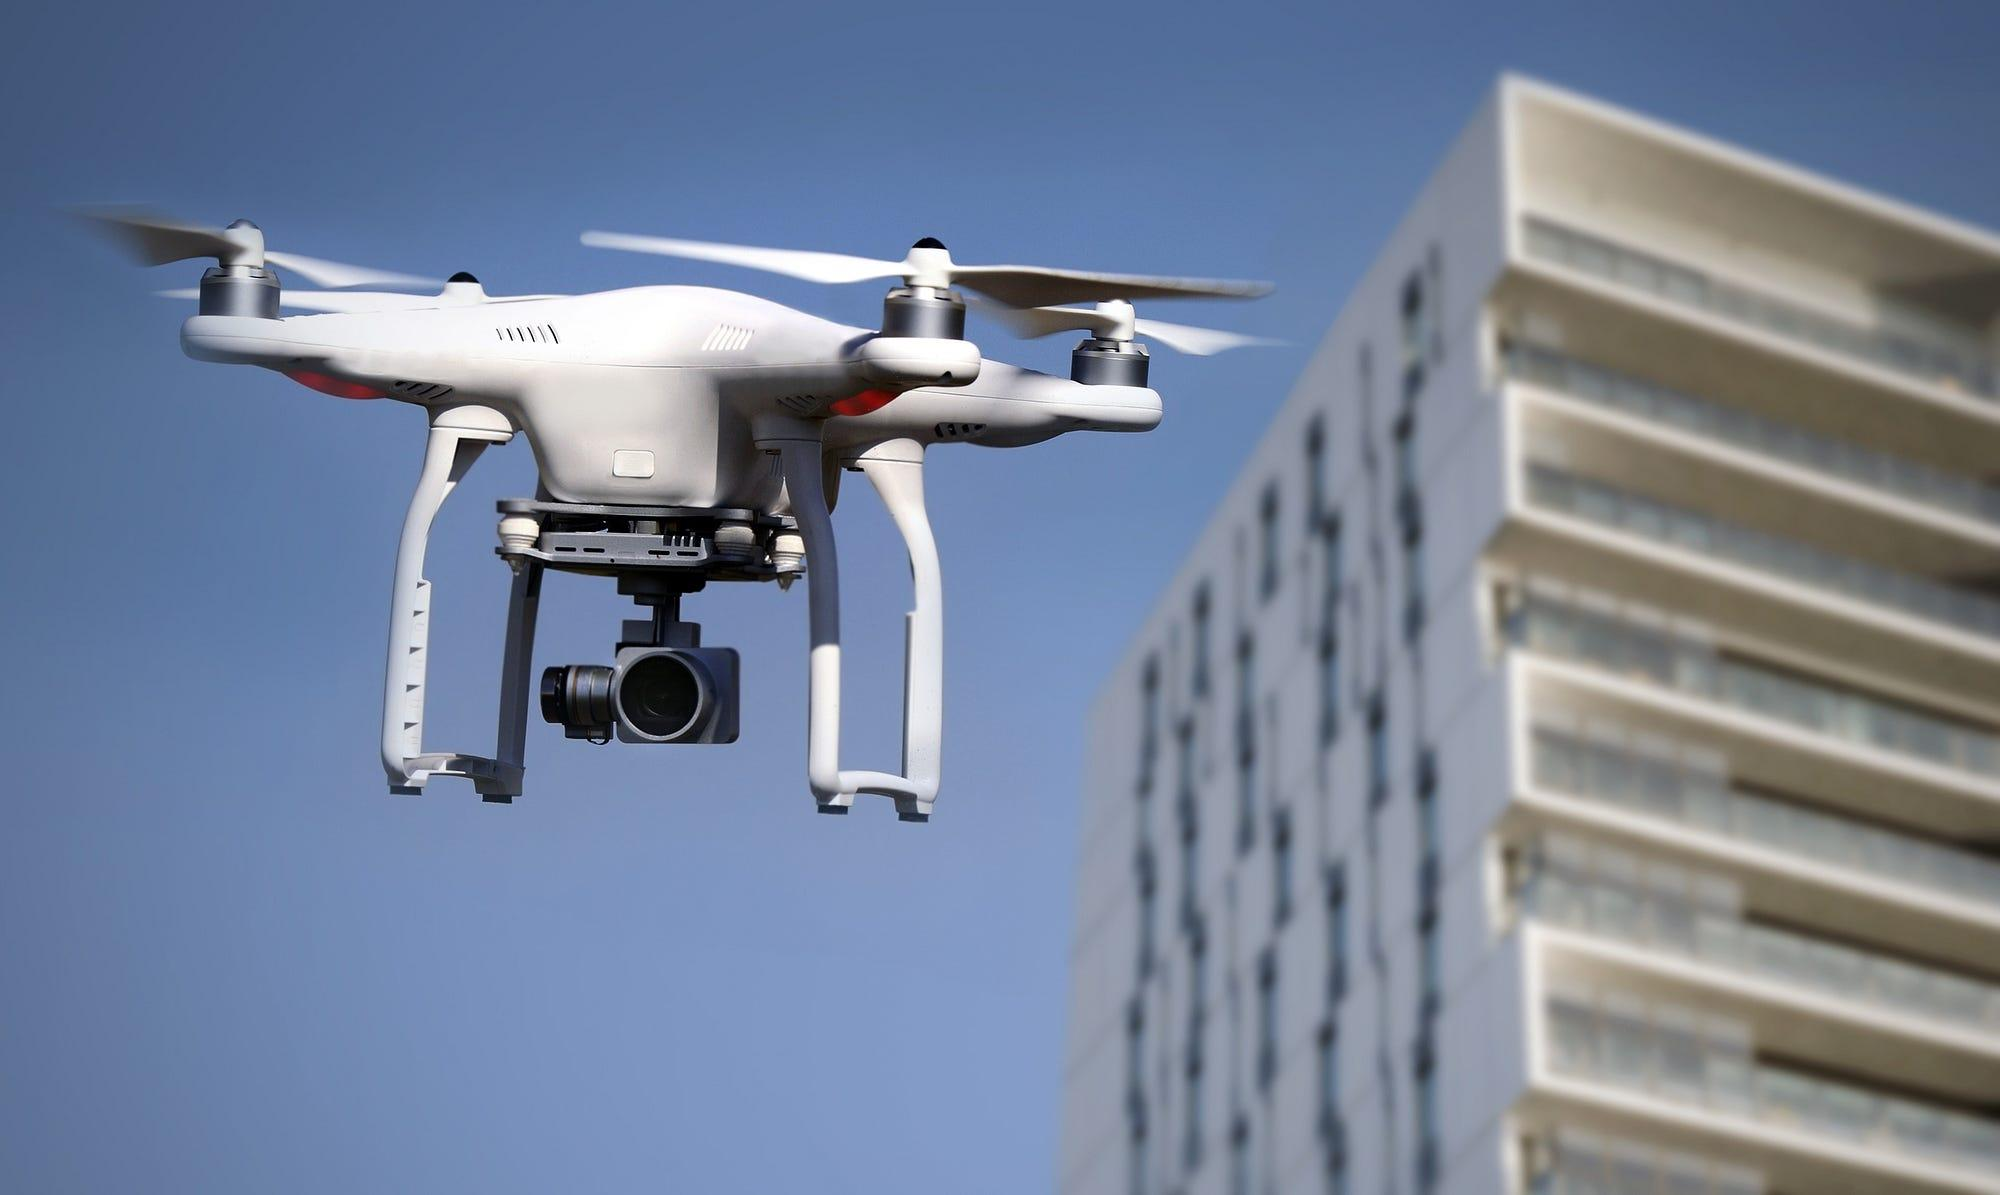drone: (48, 193, 1310, 829)
